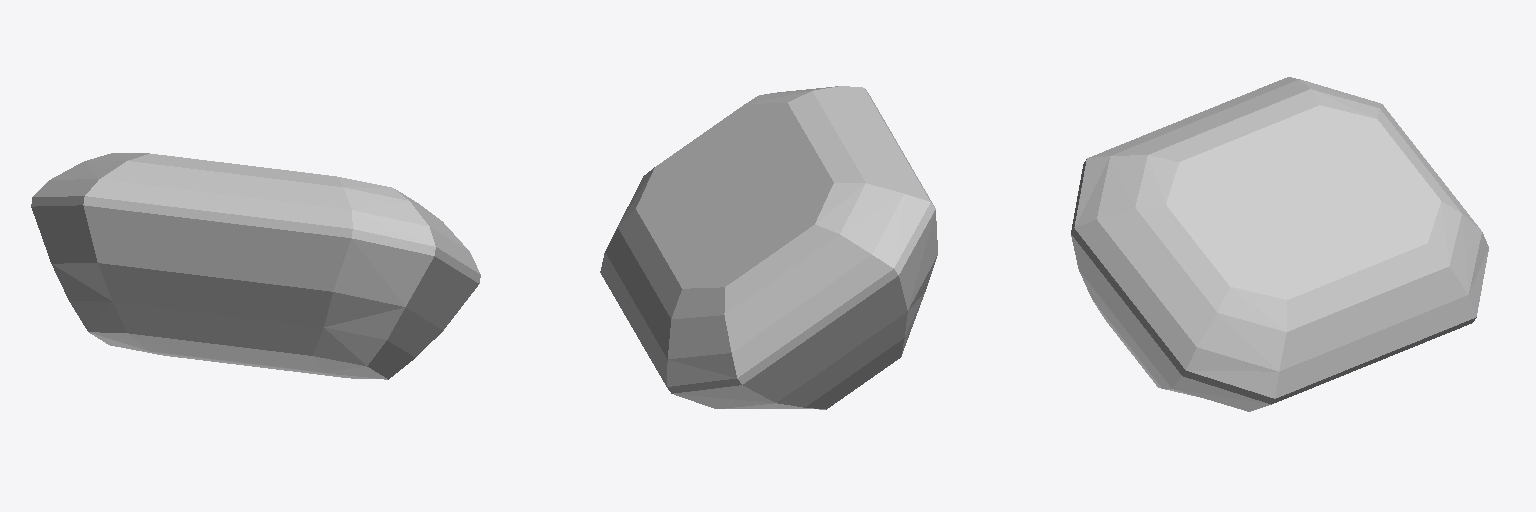
Rendered from emerald4.obj.
3 renders of one model, left to right at view 1: azimuth 30°, elevation 25°; view 2: azimuth 150°, elevation 25°; view 3: azimuth 270°, elevation 25°, orthographic.
Parts seen in each view (by area): view 1: pCube4; view 2: pCube4; view 3: pCube4.
Part boxes in pixels (bbox=[...]): pCube4: bbox=[31, 153, 480, 379]; pCube4: bbox=[600, 86, 937, 409]; pCube4: bbox=[1071, 77, 1488, 411].
Bounding box in the file's own units: 2.38 × 1.43 × 2.43.